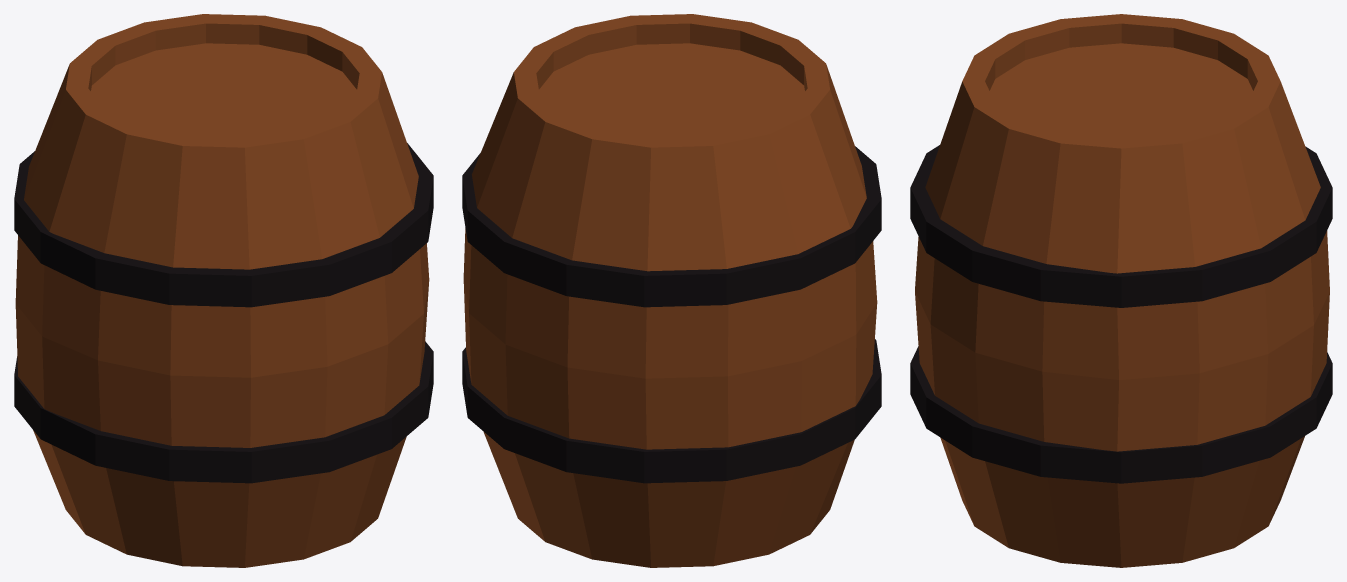
The model's file is barrel.fbx.
3 renders of one model, left to right at view 1: azimuth 30°, elevation 25°; view 2: azimuth 150°, elevation 25°; view 3: azimuth 270°, elevation 25°, orthographic.
Visible parts, largest first — view 1: Barrel; view 2: Barrel; view 3: Barrel.
Boxes of the visible parts, x1,y1,x2,y2 form: Barrel: (14, 14, 433, 567); Barrel: (462, 14, 881, 567); Barrel: (910, 14, 1332, 567).
Bounding box in the file's own units: 305 × 334 × 305.
